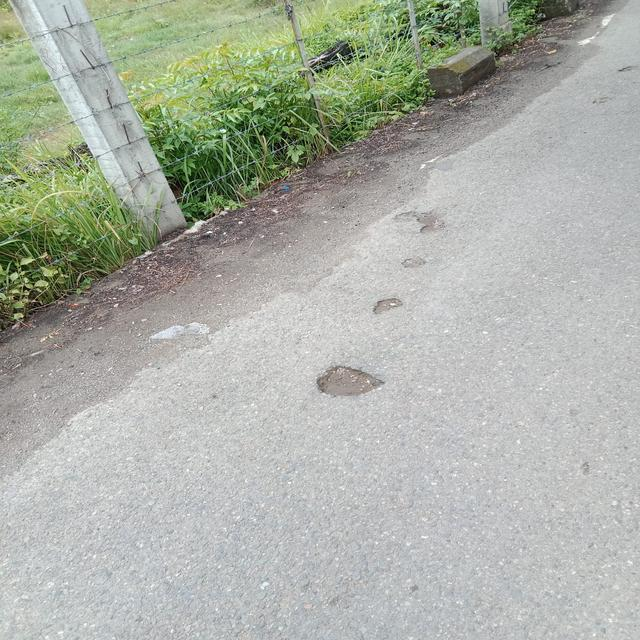Lubang: (321, 362, 385, 400)
